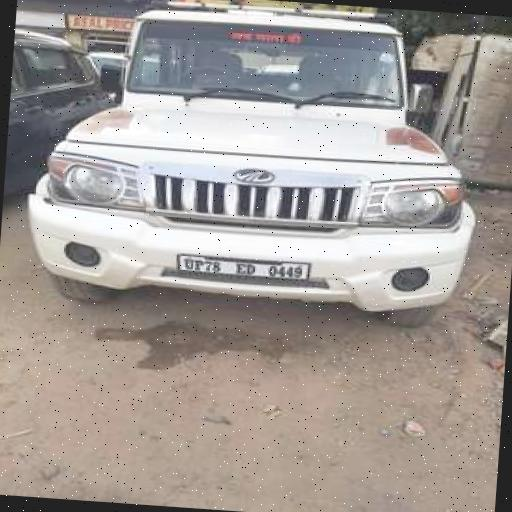license_plate`: (178, 251, 309, 280)
